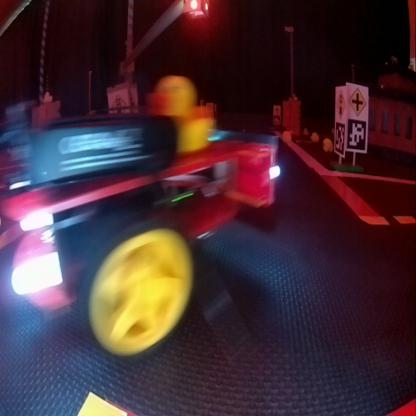Duckie: (148, 74, 210, 150), (323, 138, 332, 152), (282, 130, 292, 142), (310, 131, 318, 141), (302, 128, 308, 132)
Duckiebot: (0, 118, 272, 360)
Intersection sign: (347, 86, 365, 114), (273, 106, 279, 114)
QR code: (348, 120, 366, 148), (335, 122, 344, 152)
Signal sign: (336, 90, 344, 115)
